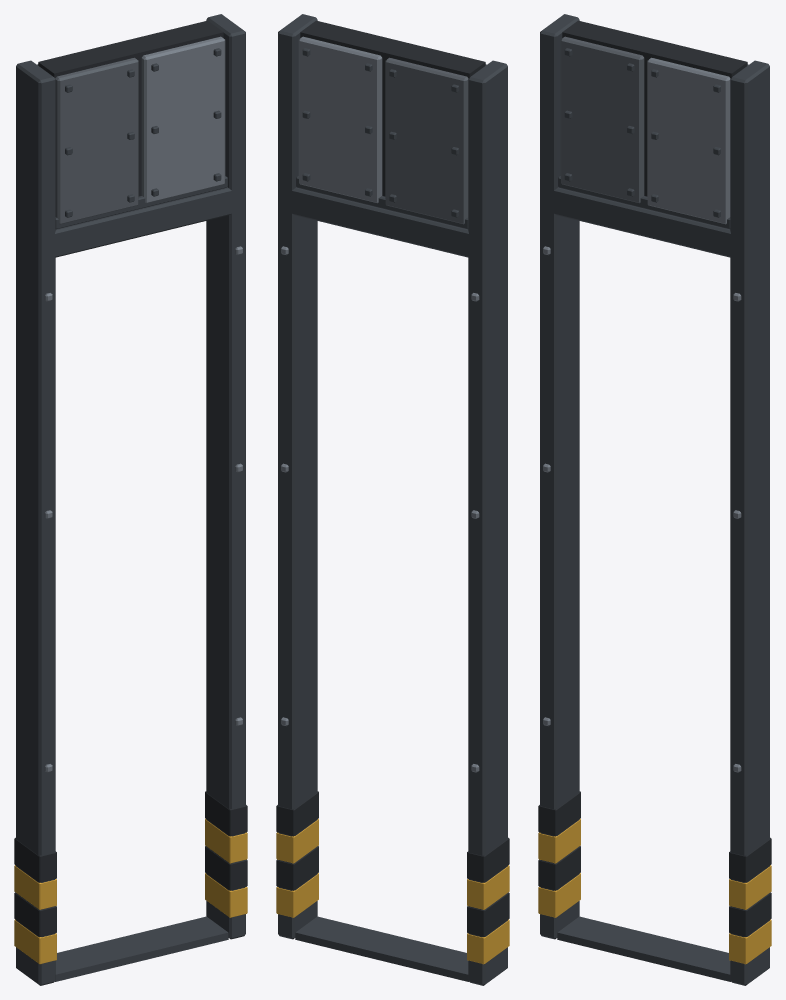
File: porte_blinde.glb
The picture shows the model from 3 angles, left to right: view 1: azimuth 30°, elevation 25°; view 2: azimuth 150°, elevation 25°; view 3: azimuth 330°, elevation 25°; orthographic projection.
Visible parts, largest first — view 1: porte_blinde_blinde_sombre.002, porte_blinde_blinde_clair.002, porte_blinde_blinde.002, porte_blinde_blinde_joint.002, porte_blinde_blinde_jaune.002; view 2: porte_blinde_blinde_sombre.002, porte_blinde_blinde_clair.002, porte_blinde_blinde.002, porte_blinde_blinde_joint.002, porte_blinde_blinde_jaune.002; view 3: porte_blinde_blinde_sombre.002, porte_blinde_blinde_clair.002, porte_blinde_blinde.002, porte_blinde_blinde_joint.002, porte_blinde_blinde_jaune.002.
Boxes of the visible parts, x1,y1,x2,y2 form: porte_blinde_blinde_sombre.002: [16, 14, 245, 985]; porte_blinde_blinde_clair.002: [44, 36, 242, 772]; porte_blinde_blinde.002: [37, 57, 138, 224]; porte_blinde_blinde_joint.002: [14, 20, 247, 936]; porte_blinde_blinde_jaune.002: [14, 818, 247, 964]; porte_blinde_blinde_sombre.002: [278, 14, 507, 985]; porte_blinde_blinde_clair.002: [281, 36, 479, 772]; porte_blinde_blinde.002: [385, 57, 486, 224]; porte_blinde_blinde_joint.002: [276, 20, 509, 936]; porte_blinde_blinde_jaune.002: [276, 818, 509, 964]; porte_blinde_blinde_sombre.002: [540, 14, 769, 985]; porte_blinde_blinde_clair.002: [543, 57, 748, 772]; porte_blinde_blinde.002: [560, 36, 644, 203]; porte_blinde_blinde_joint.002: [538, 20, 771, 936]; porte_blinde_blinde_jaune.002: [538, 818, 771, 964].
Size of the model in its own units: 0.602 by 2.5 by 0.143.
